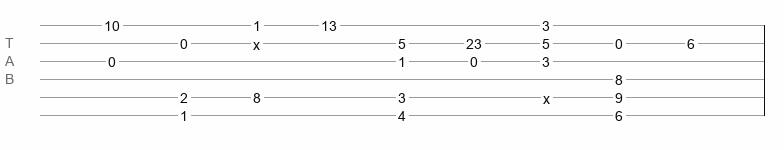0: (108, 54, 116, 64), (180, 36, 188, 46), (470, 54, 478, 64), (615, 36, 623, 46)
1: (180, 108, 188, 118), (253, 18, 261, 28), (398, 54, 406, 64)
10: (104, 18, 120, 28)
13: (321, 18, 337, 28)
2: (180, 90, 188, 100)
23: (466, 36, 482, 46)
3: (398, 90, 406, 100), (542, 54, 550, 64), (542, 18, 550, 28)
4: (398, 108, 406, 118)
5: (398, 36, 406, 46), (542, 36, 550, 46)
6: (615, 108, 623, 118), (687, 36, 695, 46)
8: (253, 90, 261, 100), (615, 72, 623, 82)
9: (615, 90, 623, 100)
x: (253, 37, 260, 45), (543, 91, 550, 99)
